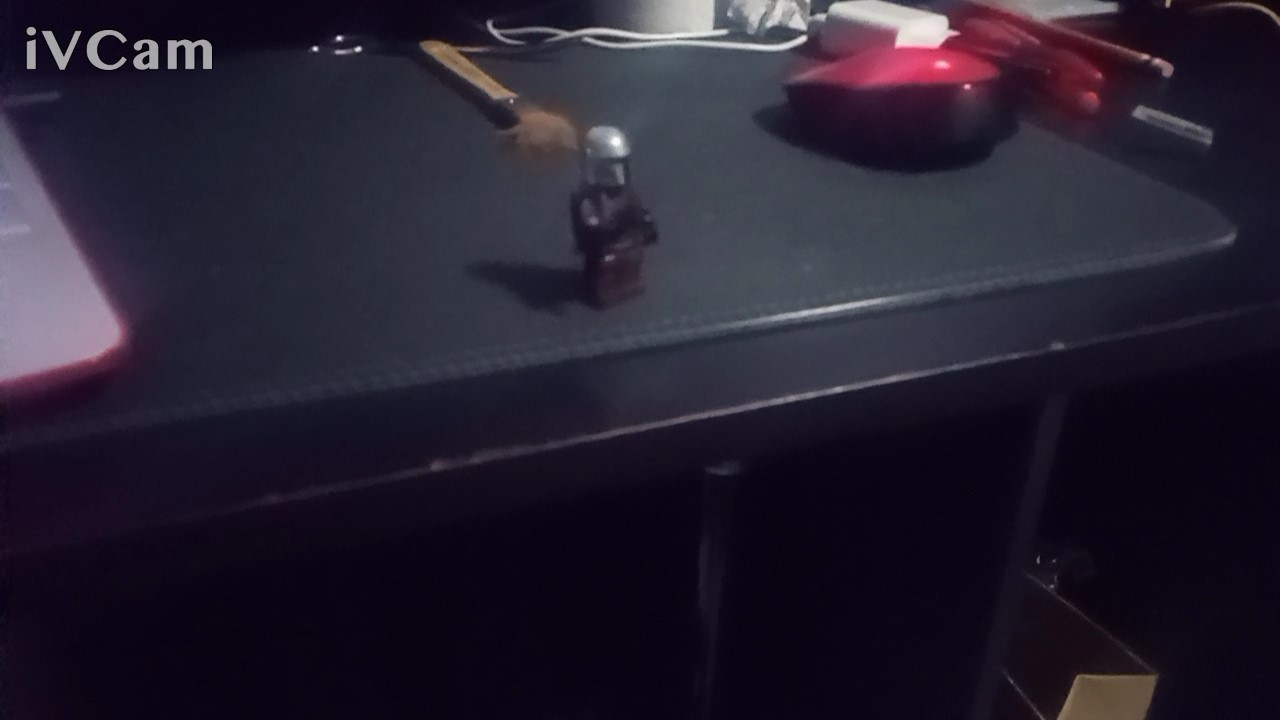mandalorian: (546, 108, 683, 322)
